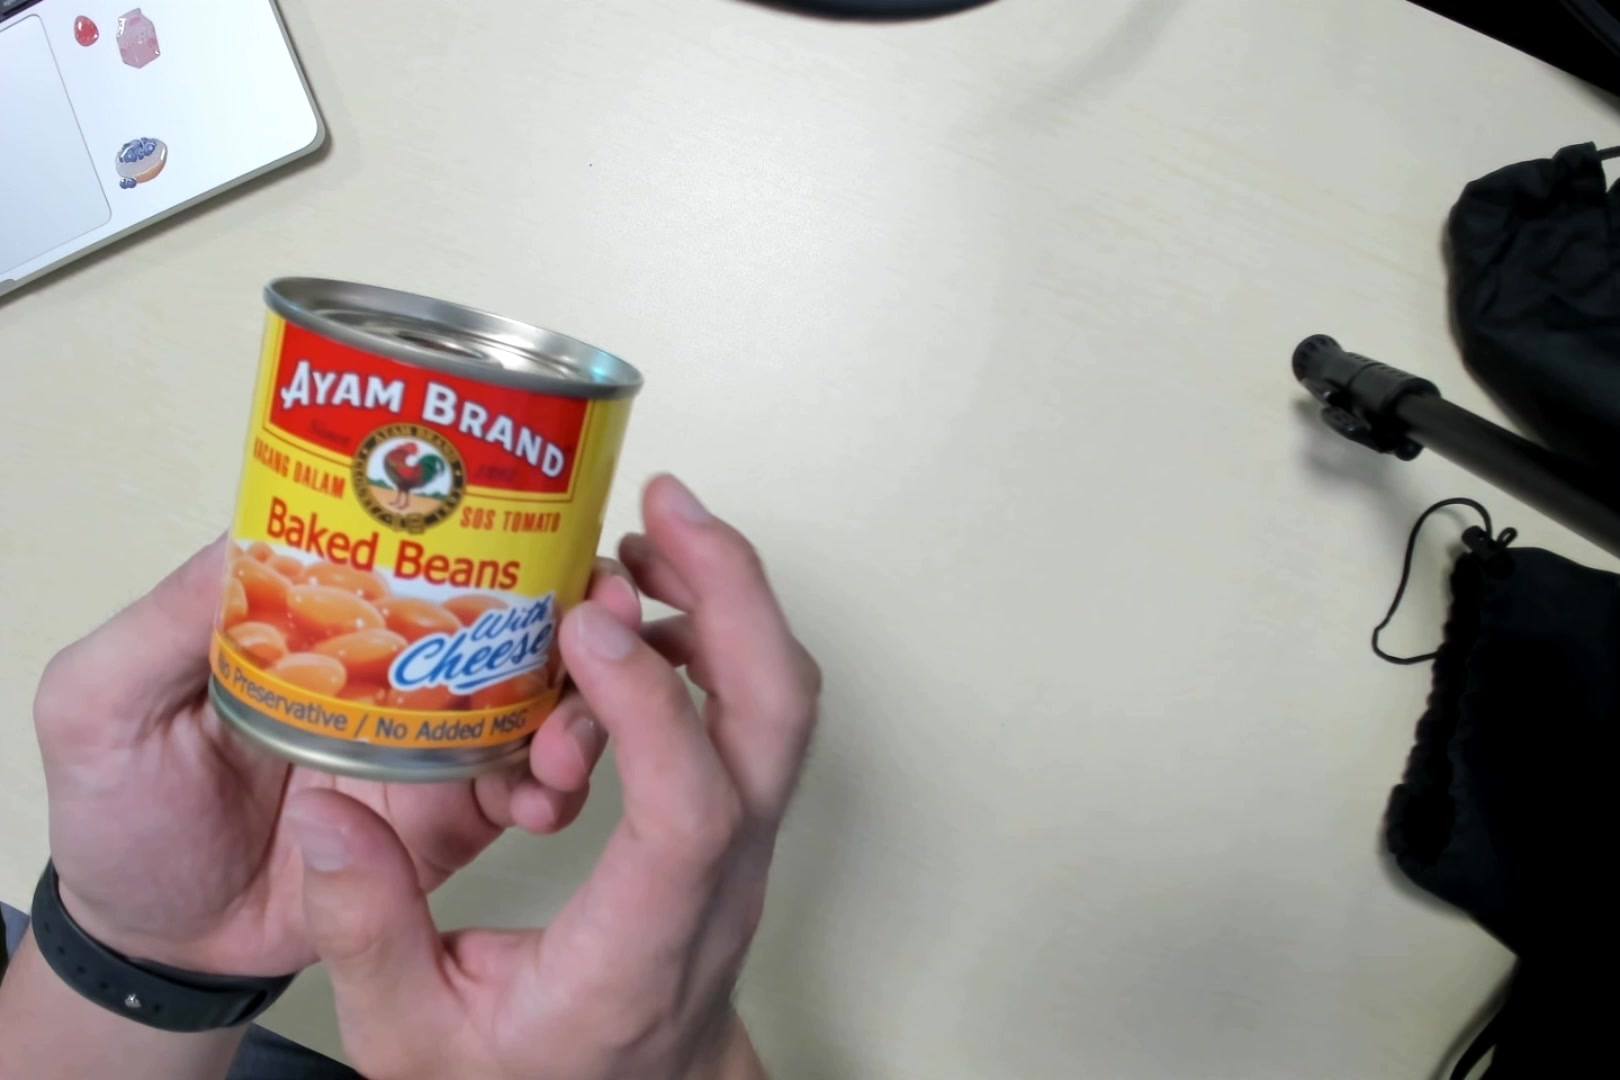CannedBakedBeans_200-299g_NonHalal_NonHealthy: (209, 268, 611, 779)
